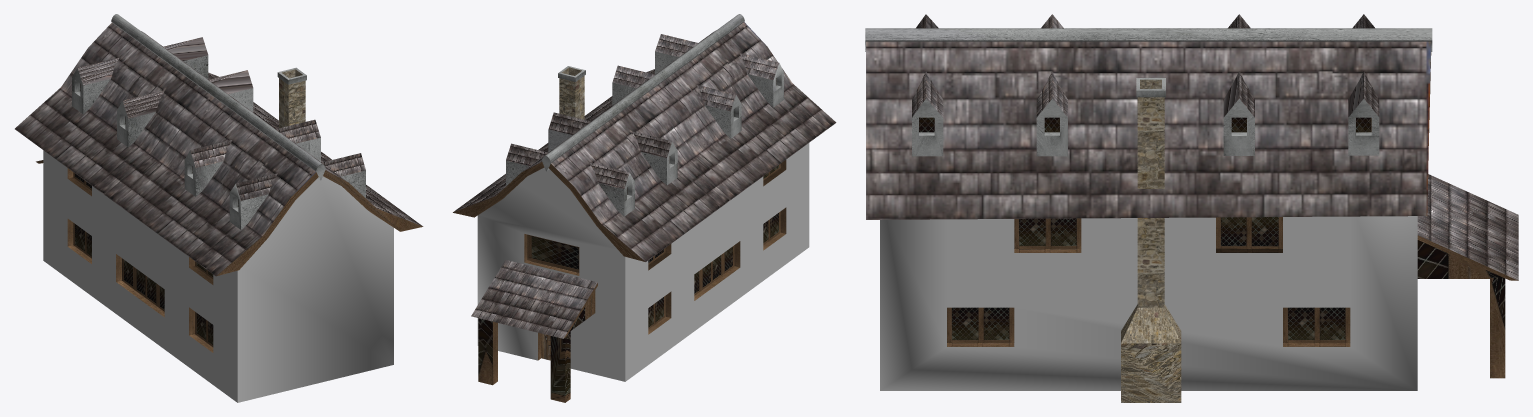
File: Home4.fbx
The picture shows the model from 3 angles, left to right: view 1: azimuth 30°, elevation 25°; view 2: azimuth 150°, elevation 25°; view 3: azimuth 270°, elevation 25°; orthographic projection. The views are drawn at different scales.
Visible parts, largest first — view 1: Home4; view 2: Home4; view 3: Home4.
Boxes of the visible parts, box(x1,y1,x2,y2) form: Home4: box(15, 14, 423, 402); Home4: box(453, 14, 836, 402); Home4: box(865, 14, 1518, 402).
Bounding box in the file's own units: 708 × 756 × 1404.
